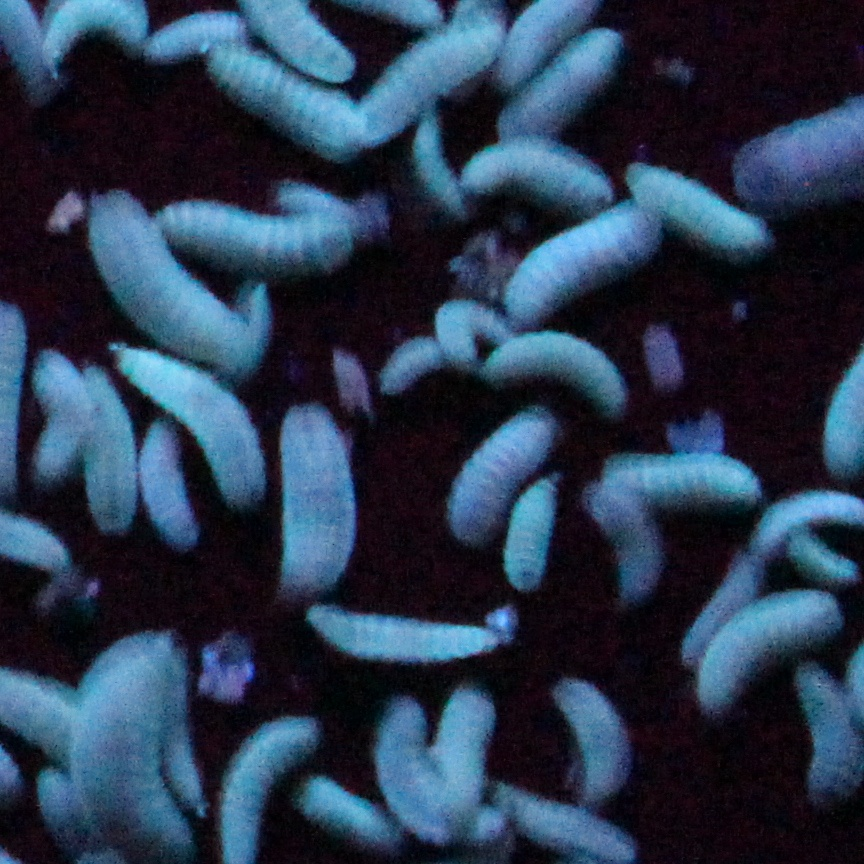larve: (76, 184, 283, 368), (103, 326, 277, 508), (83, 597, 189, 864), (131, 175, 357, 276), (262, 401, 372, 601), (512, 191, 669, 327), (695, 581, 844, 712), (300, 593, 516, 680), (448, 403, 566, 552), (620, 160, 784, 260), (471, 321, 639, 411), (548, 663, 643, 821), (18, 340, 100, 499), (125, 408, 213, 550), (603, 440, 762, 516)
